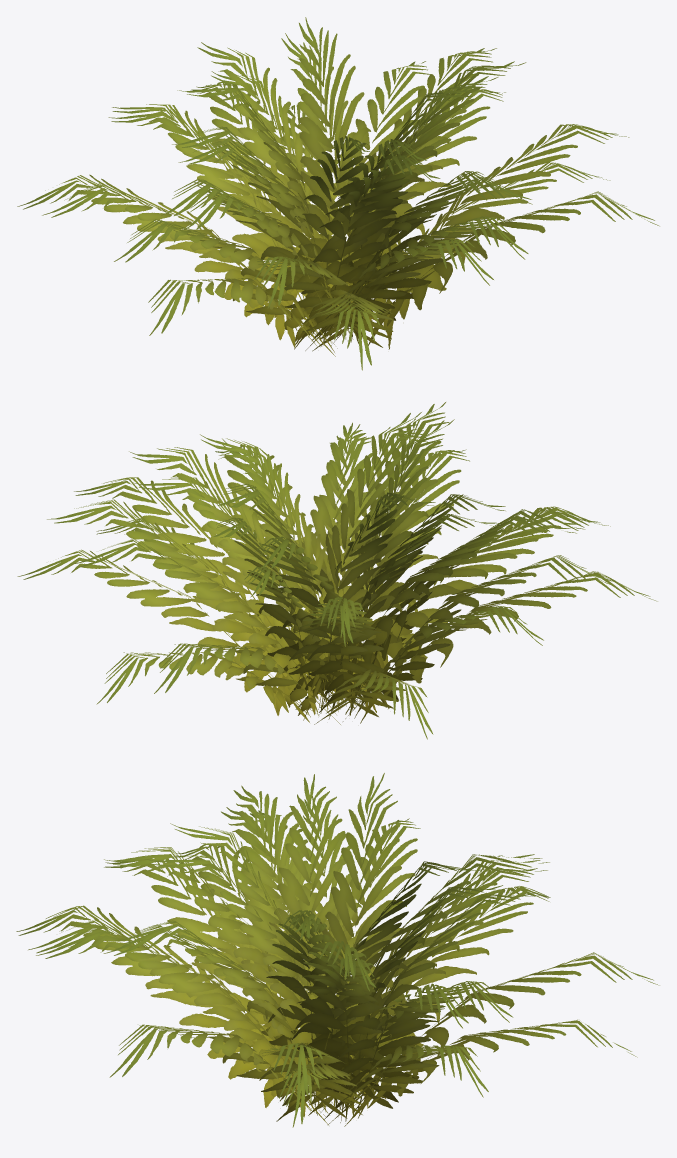
Rendered from fern.fbx.
3 renders of one model, top to bottom at view 1: azimuth 30°, elevation 25°; view 2: azimuth 150°, elevation 25°; view 3: azimuth 270°, elevation 25°, orthographic. The views are drawn at different scales.
Parts seen in each view (by area): view 1: stylizedtropical01_0; view 2: stylizedtropical01_0; view 3: stylizedtropical01_0.
Part boxes in pixels (x1,y1,x2,y2): stylizedtropical01_0: (17,17,659,370); stylizedtropical01_0: (17,402,657,739); stylizedtropical01_0: (16,773,659,1127).
Bounding box in the file's own units: 164 × 76.76 × 162.
